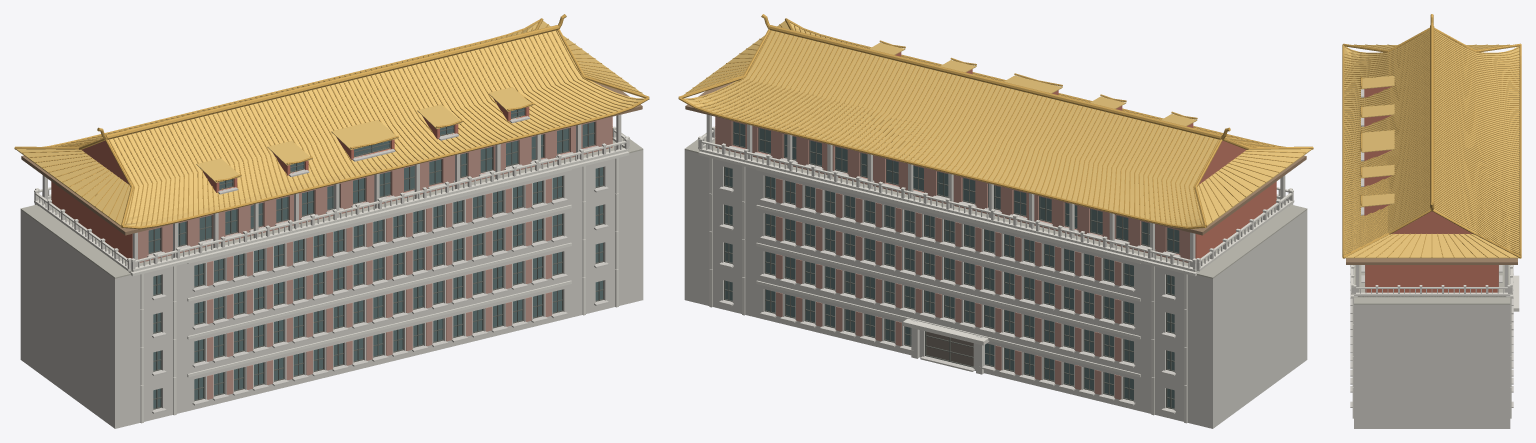
File: xuhui-zhongshan-hospital-main-building-raw.glb
3 renders of one model, left to right at view 1: azimuth 30°, elevation 25°; view 2: azimuth 150°, elevation 25°; view 3: azimuth 270°, elevation 25°, orthographic. The views are drawn at different scales.
Parts seen in each view (by area): view 1: 中山医院3号楼（历史中央主楼）; view 2: 中山医院3号楼（历史中央主楼）; view 3: 中山医院3号楼（历史中央主楼）.
Boxes of the visible parts, x1,y1,x2,y2 form: 中山医院3号楼（历史中央主楼）: (14,14,649,428); 中山医院3号楼（历史中央主楼）: (678,14,1313,428); 中山医院3号楼（历史中央主楼）: (1342,14,1521,428).
Size of the model in its own units: 56.54 by 26.47 by 20.08.
